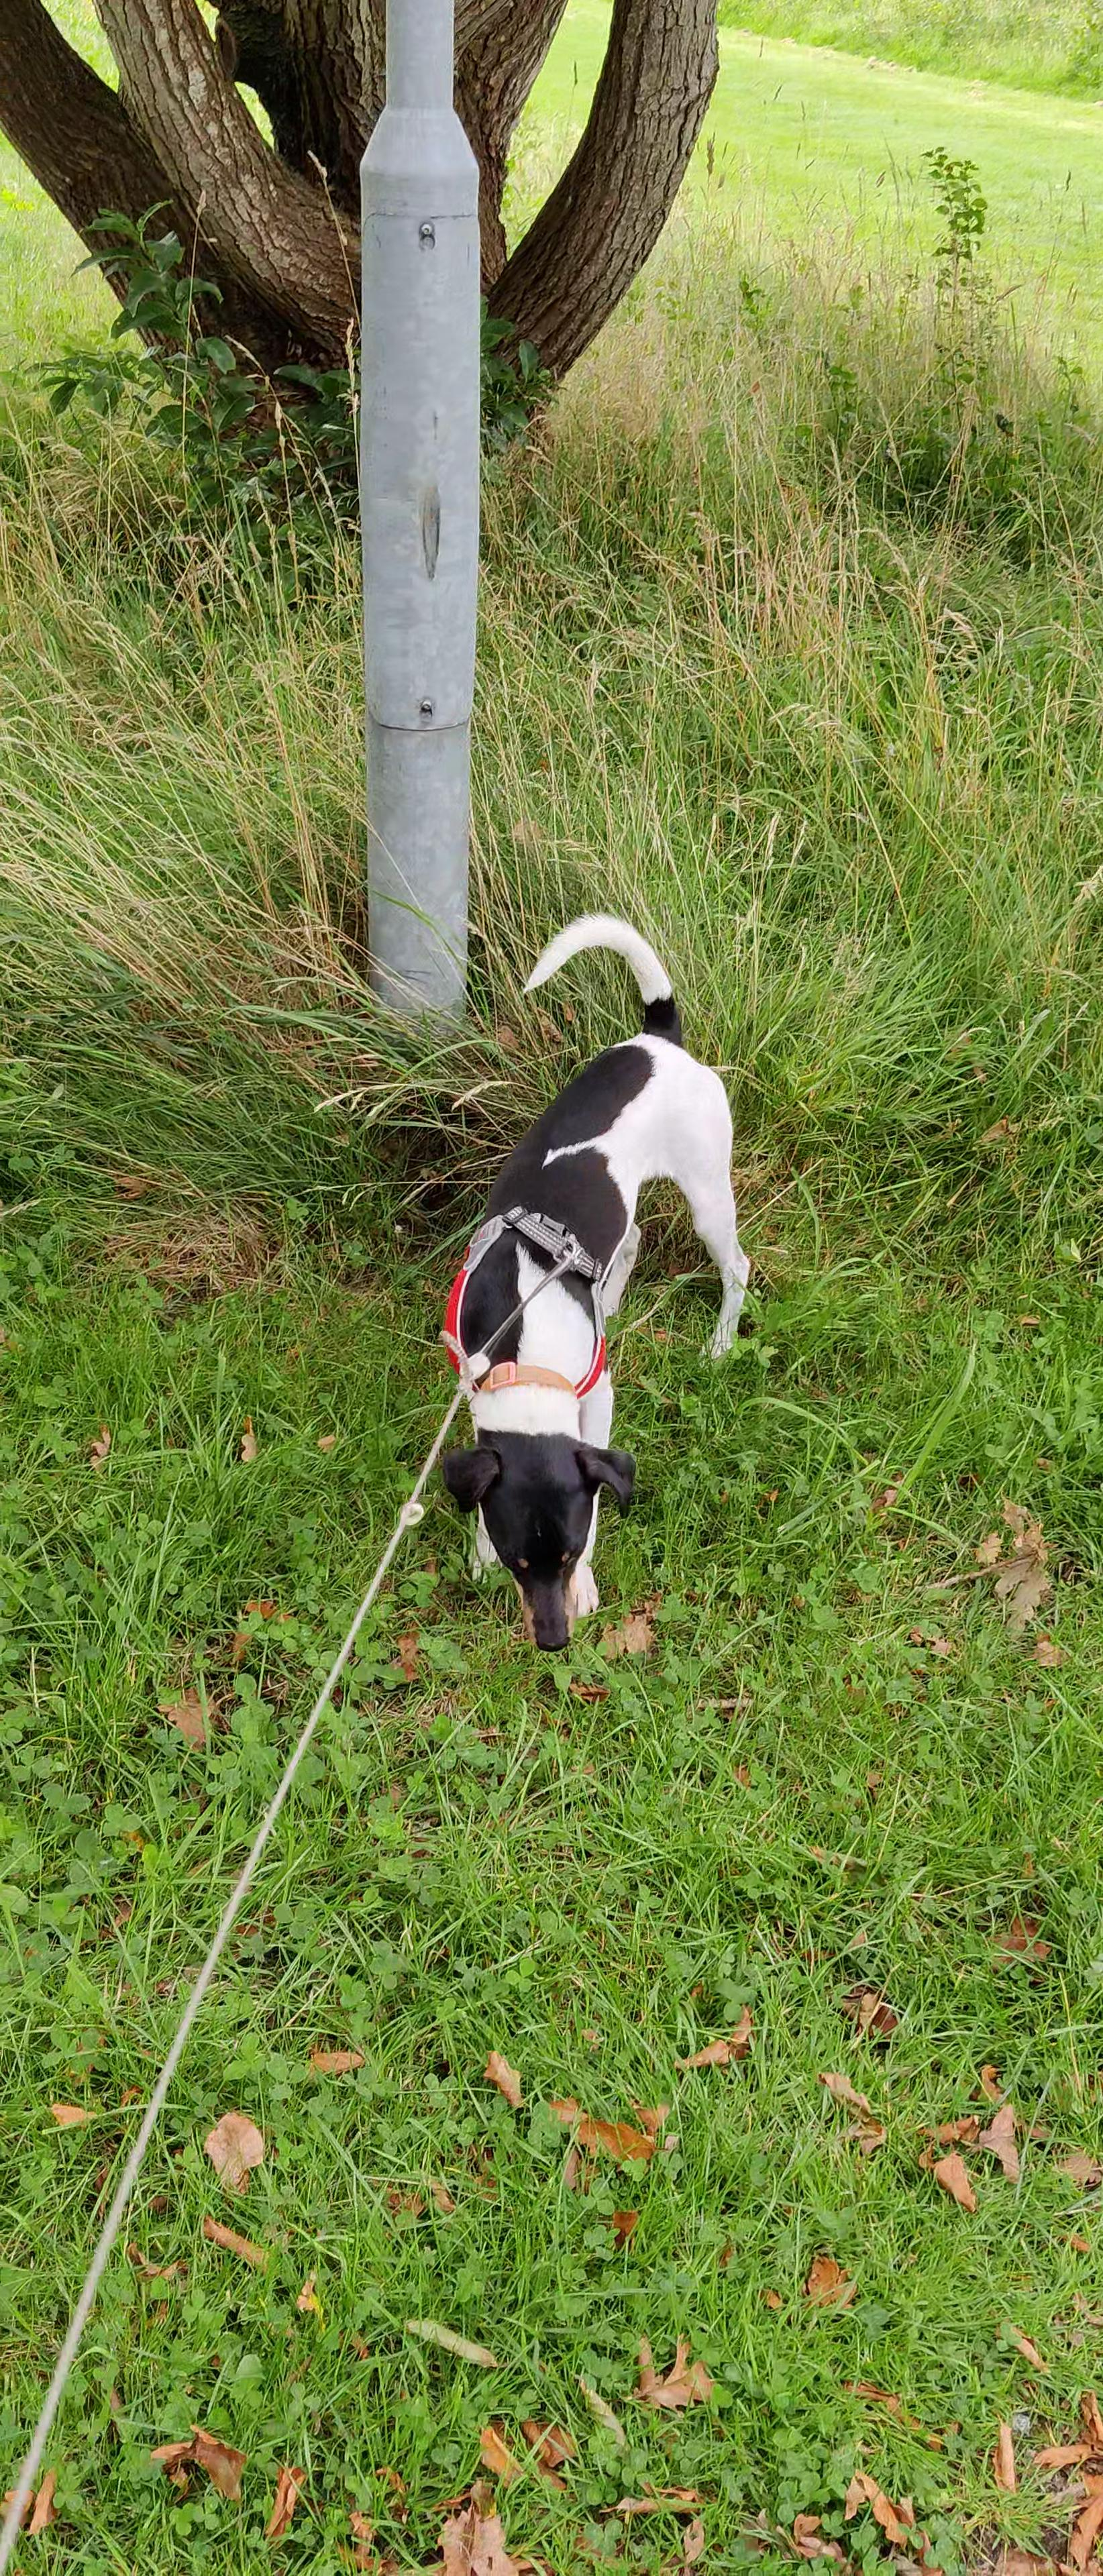Dog: (370, 892, 810, 1664)
